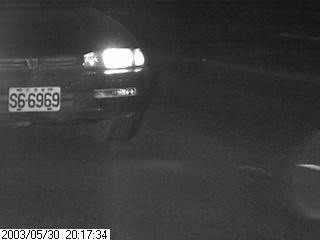plate: (7, 86, 62, 114)
